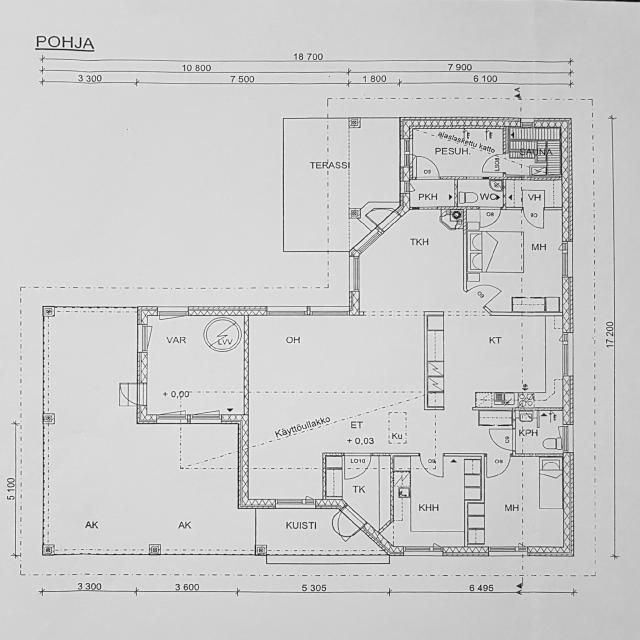door: (362, 202, 400, 234), (344, 452, 373, 480), (487, 426, 516, 451), (415, 154, 442, 180), (485, 454, 512, 479), (116, 382, 144, 406), (474, 283, 504, 305), (480, 152, 506, 174), (479, 206, 502, 228), (522, 208, 546, 229)
window: (267, 304, 350, 317), (558, 331, 576, 383), (399, 543, 443, 558), (559, 242, 575, 280), (188, 410, 225, 426), (347, 256, 362, 293), (274, 497, 316, 509), (486, 545, 525, 557), (560, 422, 574, 454), (136, 323, 149, 355), (157, 308, 188, 319)
zone: (247, 313, 346, 498), (425, 312, 571, 412), (345, 312, 426, 454), (466, 208, 569, 311), (140, 315, 240, 419), (470, 455, 568, 553), (390, 453, 472, 548), (407, 128, 508, 177), (506, 128, 563, 176), (512, 408, 566, 456), (468, 230, 524, 274), (504, 177, 564, 208), (406, 178, 462, 210), (456, 178, 505, 207), (477, 407, 513, 426), (418, 453, 444, 479)
